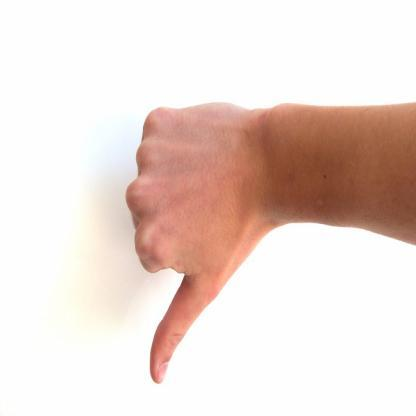thumb_down: (122, 95, 270, 387)
